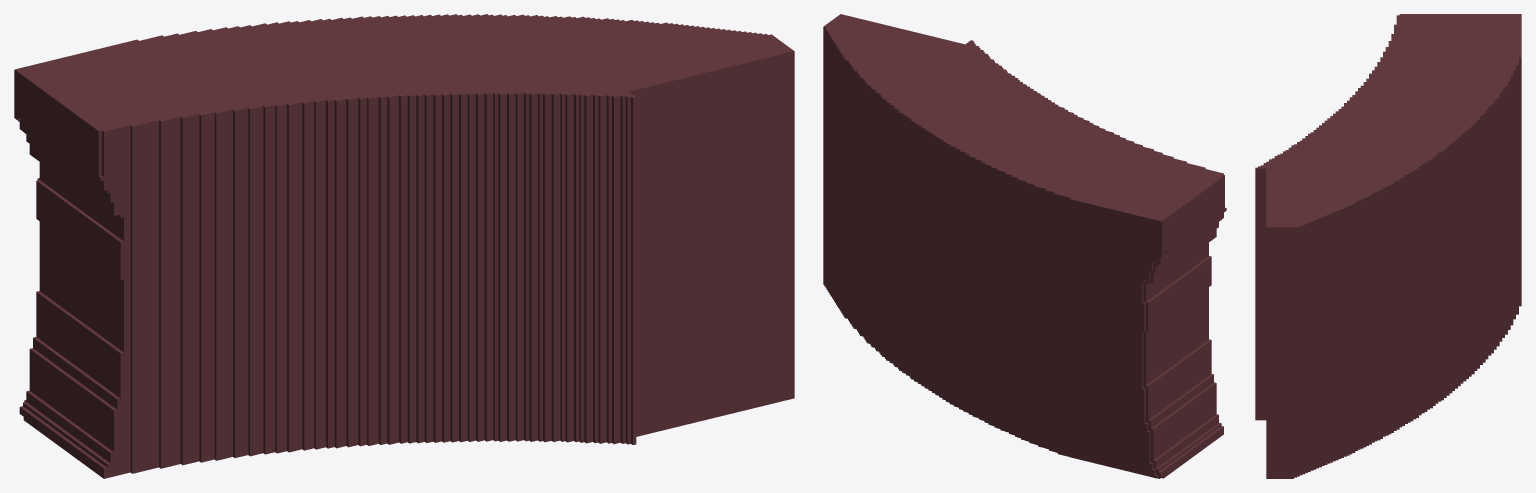
The model's file is base_with_flag_elements-15.obj.
The picture shows the model from 3 angles, left to right: view 1: azimuth 30°, elevation 25°; view 2: azimuth 150°, elevation 25°; view 3: azimuth 270°, elevation 25°; orthographic projection. The views are drawn at different scales.
Size of the model in its own units: 18.2 by 10 by 9.6.
1 material, 1 textured.
